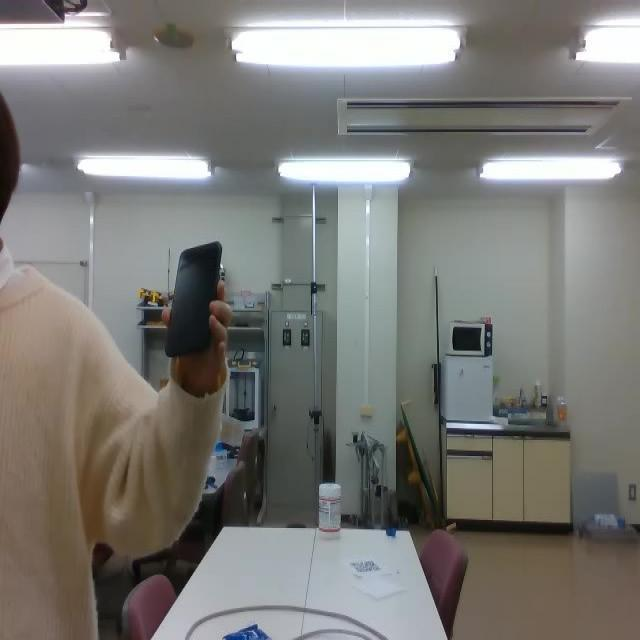Phone: (162, 238, 225, 360)
